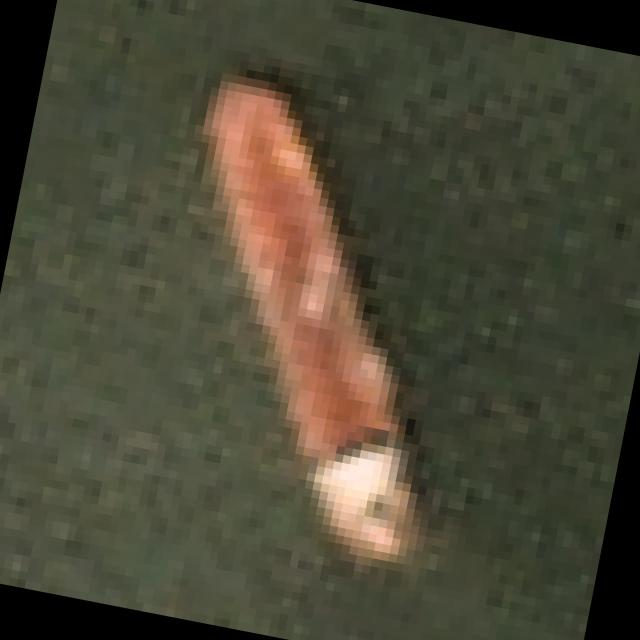ship: (86, 57, 526, 585)
